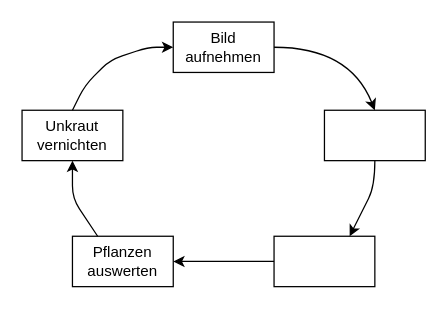
The diagram is 447 pixels wide and 309 high, and some of its shapes have lost their labels. The centre of each missing label's shape, as x and y in pixels:
"Plantnet API" belongs at point 324,261.
"Quadranten" belongs at point 374,135.
